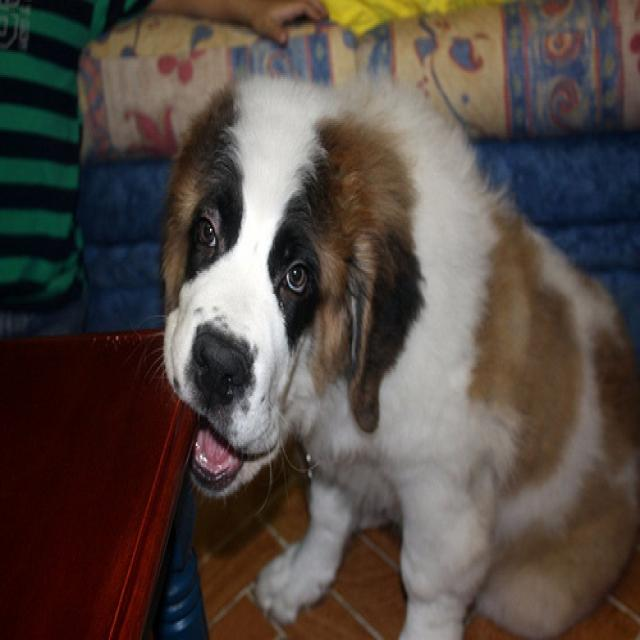dog-saint_bernard: (125, 62, 637, 636)
